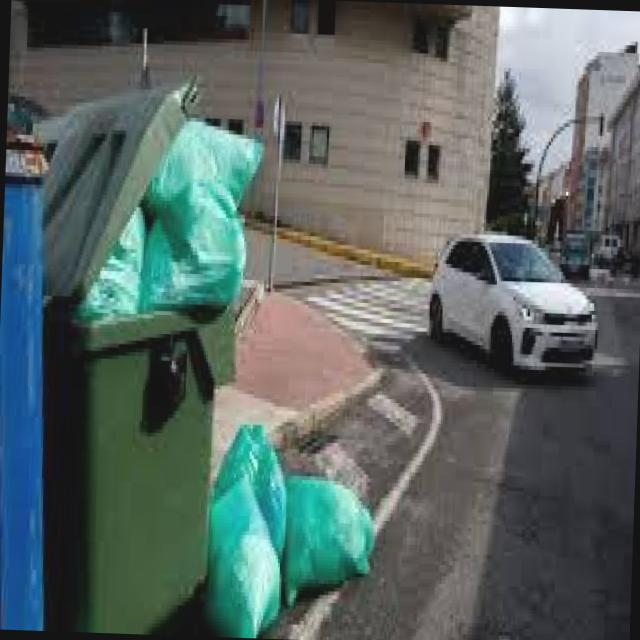garbage: (16, 106, 391, 639)
